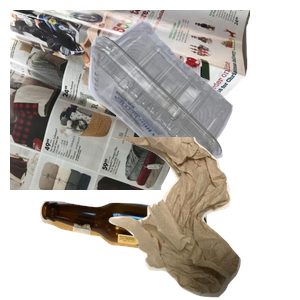glass: (37, 198, 236, 300)
paper: (10, 10, 250, 190)
plastic: (86, 18, 300, 171)
trash: (103, 137, 300, 300)
